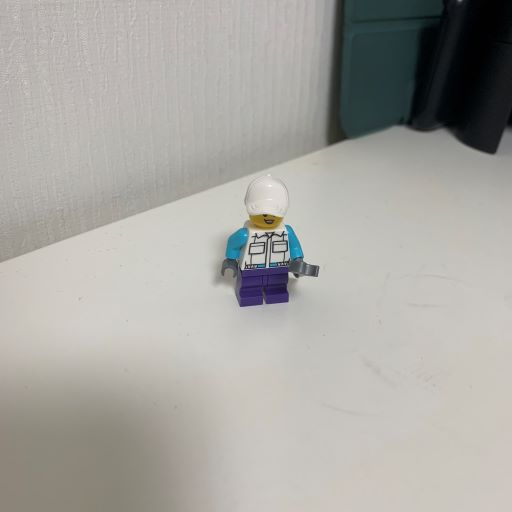human: (208, 167, 329, 314)
